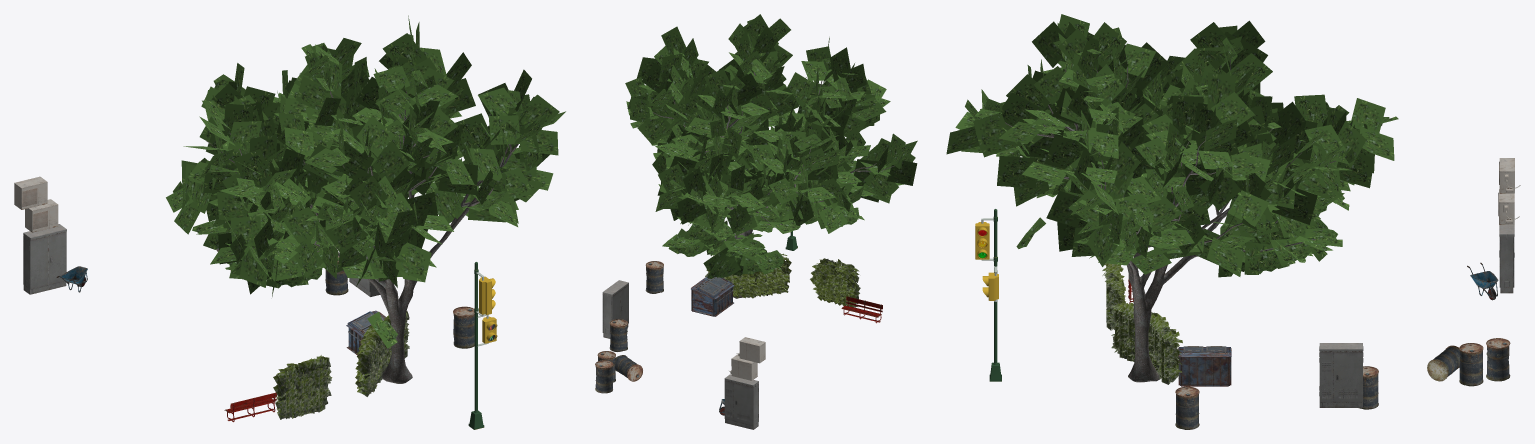
File: sm301_01_301room_02.fbx
3 renders of one model, left to right at view 1: azimuth 30°, elevation 25°; view 2: azimuth 150°, elevation 25°; view 3: azimuth 270°, elevation 25°, orthographic. The views are drawn at different scales.
Parts seen in each view (by area): view 1: 0020_sm10006LargeTree01A00ms_1_Group_2_Sub_1__sm10_006__412e, 0042_sm10014BoxWood01A00ms_1_Group_0_Sub_1__sm10_014_Bo_454, 0023_sm25007ElectricalBox01A00ms_1_Group_0_Sub_1__sm25__5c77, 0016_sm10006LargeTree01A00ms_1_Group_0_Sub_1__sm10_006__ea31, 0037_sm25015TrafficLight02A00ms_1_Group_0_Sub_1__sm25_0_7aae, 0027_sm26013oilCan01A00ms_1_Group_0_Sub_1__sm26_013_oil_bde2, 0022_sm31019CompressorUnit01A00ms_1_Group_0_Sub_2__sm31_9c41, 0028_sm30112bench01A00ms_1_Group_0_Sub_1__sm30_112_benc_6b9; view 2: 0020_sm10006LargeTree01A00ms_1_Group_2_Sub_1__sm10_006__412e, 0042_sm10014BoxWood01A00ms_1_Group_0_Sub_1__sm10_014_Bo_454, 0023_sm25007ElectricalBox01A00ms_1_Group_0_Sub_1__sm25__5c77, 0027_sm26013oilCan01A00ms_1_Group_0_Sub_1__sm26_013_oil_bde2, 0022_sm31019CompressorUnit01A00ms_1_Group_0_Sub_2__sm31_9c41, 0029_sm26001CityDumpster01A00ms_1_Group_0_Sub_1__sm26_0_17a9, 0028_sm30112bench01A00ms_1_Group_0_Sub_1__sm30_112_benc_6b9, 0034_sm26001CityDumpster01A00ms_1_Group_5_Sub_1__sm26_0_53e3, 0018_sm10006LargeTree01A00ms_1_Group_1_Sub_1__sm10_006__659a; view 3: 0020_sm10006LargeTree01A00ms_1_Group_2_Sub_1__sm10_006__412e, 0027_sm26013oilCan01A00ms_1_Group_0_Sub_1__sm26_013_oil_bde2, 0023_sm25007ElectricalBox01A00ms_1_Group_0_Sub_1__sm25__5c77, 0042_sm10014BoxWood01A00ms_1_Group_0_Sub_1__sm10_014_Bo_454, 0016_sm10006LargeTree01A00ms_1_Group_0_Sub_1__sm10_006__ea31, 0037_sm25015TrafficLight02A00ms_1_Group_0_Sub_1__sm25_0_7aae, 0029_sm26001CityDumpster01A00ms_1_Group_0_Sub_1__sm26_0_17a9, 0022_sm31019CompressorUnit01A00ms_1_Group_0_Sub_2__sm31_9c41, 0018_sm10006LargeTree01A00ms_1_Group_1_Sub_1__sm10_006__659a.
Boxes of the visible parts, left/top/right/bottom form: 0020_sm10006LargeTree01A00ms_1_Group_2_Sub_1__sm10_006__412e: left=166, top=15, right=565, bottom=348; 0042_sm10014BoxWood01A00ms_1_Group_0_Sub_1__sm10_014_Bo_454: left=273, top=311, right=409, bottom=419; 0023_sm25007ElectricalBox01A00ms_1_Group_0_Sub_1__sm25__5c77: left=23, top=224, right=380, bottom=296; 0016_sm10006LargeTree01A00ms_1_Group_0_Sub_1__sm10_006__ea31: left=206, top=65, right=518, bottom=383; 0037_sm25015TrafficLight02A00ms_1_Group_0_Sub_1__sm25_0_7aae: left=468, top=262, right=497, bottom=429; 0027_sm26013oilCan01A00ms_1_Group_0_Sub_1__sm26_013_oil_bde2: left=216, top=248, right=474, bottom=348; 0022_sm31019CompressorUnit01A00ms_1_Group_0_Sub_2__sm31_9c41: left=14, top=176, right=58, bottom=232; 0028_sm30112bench01A00ms_1_Group_0_Sub_1__sm30_112_benc_6b9: left=224, top=392, right=277, bottom=422; 0020_sm10006LargeTree01A00ms_1_Group_2_Sub_1__sm10_006__412e: left=625, top=14, right=917, bottom=278; 0042_sm10014BoxWood01A00ms_1_Group_0_Sub_1__sm10_014_Bo_454: left=705, top=252, right=860, bottom=307; 0023_sm25007ElectricalBox01A00ms_1_Group_0_Sub_1__sm25__5c77: left=602, top=280, right=758, bottom=429; 0027_sm26013oilCan01A00ms_1_Group_0_Sub_1__sm26_013_oil_bde2: left=595, top=261, right=663, bottom=393; 0022_sm31019CompressorUnit01A00ms_1_Group_0_Sub_2__sm31_9c41: left=729, top=337, right=765, bottom=380; 0029_sm26001CityDumpster01A00ms_1_Group_0_Sub_1__sm26_0_17a9: left=691, top=287, right=733, bottom=316; 0028_sm30112bench01A00ms_1_Group_0_Sub_1__sm30_112_benc_6b9: left=841, top=296, right=882, bottom=323; 0034_sm26001CityDumpster01A00ms_1_Group_5_Sub_1__sm26_0_53e3: left=699, top=277, right=730, bottom=295; 0018_sm10006LargeTree01A00ms_1_Group_1_Sub_1__sm10_006__659a: left=652, top=47, right=894, bottom=259; 0020_sm10006LargeTree01A00ms_1_Group_2_Sub_1__sm10_006__412e: left=946, top=14, right=1398, bottom=277; 0027_sm26013oilCan01A00ms_1_Group_0_Sub_1__sm26_013_oil_bde2: left=1175, top=338, right=1510, bottom=429; 0023_sm25007ElectricalBox01A00ms_1_Group_0_Sub_1__sm25__5c77: left=1319, top=224, right=1514, bottom=407; 0042_sm10014BoxWood01A00ms_1_Group_0_Sub_1__sm10_014_Bo_454: left=1102, top=263, right=1182, bottom=384; 0016_sm10006LargeTree01A00ms_1_Group_0_Sub_1__sm10_006__ea31: left=1037, top=108, right=1275, bottom=382; 0037_sm25015TrafficLight02A00ms_1_Group_0_Sub_1__sm25_0_7aae: left=975, top=209, right=1001, bottom=381; 0029_sm26001CityDumpster01A00ms_1_Group_0_Sub_1__sm26_0_17a9: left=1178, top=357, right=1231, bottom=386; 0022_sm31019CompressorUnit01A00ms_1_Group_0_Sub_2__sm31_9c41: left=1499, top=158, right=1520, bottom=224; 0018_sm10006LargeTree01A00ms_1_Group_1_Sub_1__sm10_006__659a: left=992, top=59, right=1336, bottom=251.
Bounding box in the file's own units: 13.59 × 12.77 × 18.67.
